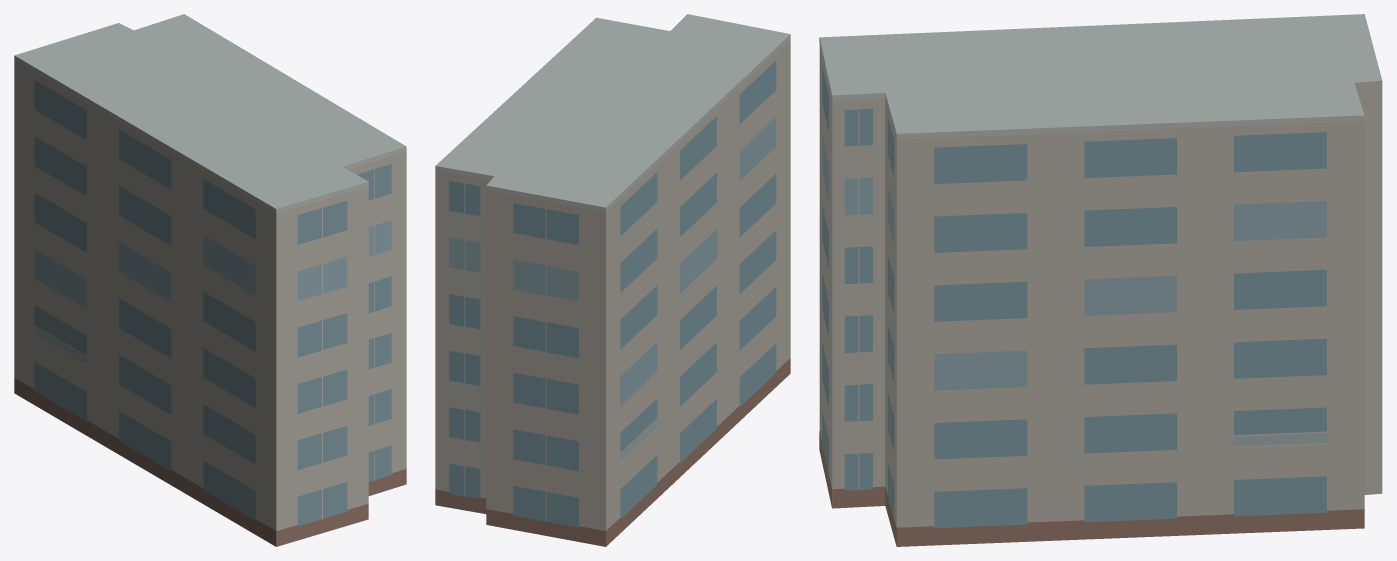
File: survey-upis-32569656.glb
The picture shows the model from 3 angles, left to right: view 1: azimuth 30°, elevation 25°; view 2: azimuth 150°, elevation 25°; view 3: azimuth 270°, elevation 25°; orthographic projection. The views are drawn at different scales.
Visible parts, largest first — view 1: survey-upis-32569656.tmp; view 2: survey-upis-32569656.tmp; view 3: survey-upis-32569656.tmp.
Boxes of the visible parts, x1,y1,x2,y2 form: survey-upis-32569656.tmp: (14,14,406,546); survey-upis-32569656.tmp: (435,14,790,546); survey-upis-32569656.tmp: (819,14,1382,546).
Bounding box in the file's own units: 10.97 × 17.6 × 21.74.
